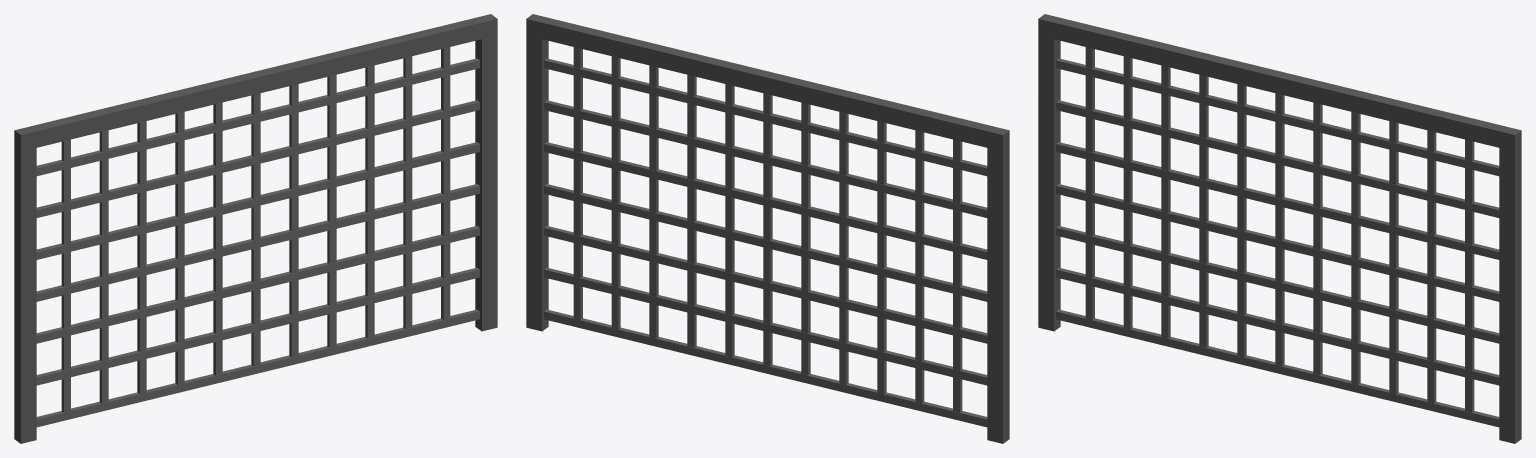
The model's file is Fence_1_F_3.fbx.
3 renders of one model, left to right at view 1: azimuth 30°, elevation 25°; view 2: azimuth 150°, elevation 25°; view 3: azimuth 330°, elevation 25°, orthographic.
Parts seen in each view (by area): view 1: Fence_1_F_3; view 2: Fence_1_F_3; view 3: Fence_1_F_3.
Part boxes in pixels (bbox=[...]): Fence_1_F_3: bbox=[14, 14, 497, 443]; Fence_1_F_3: bbox=[526, 14, 1009, 443]; Fence_1_F_3: bbox=[1038, 14, 1521, 443].
Size of the model in its own units: 400 by 248 by 9.6.
